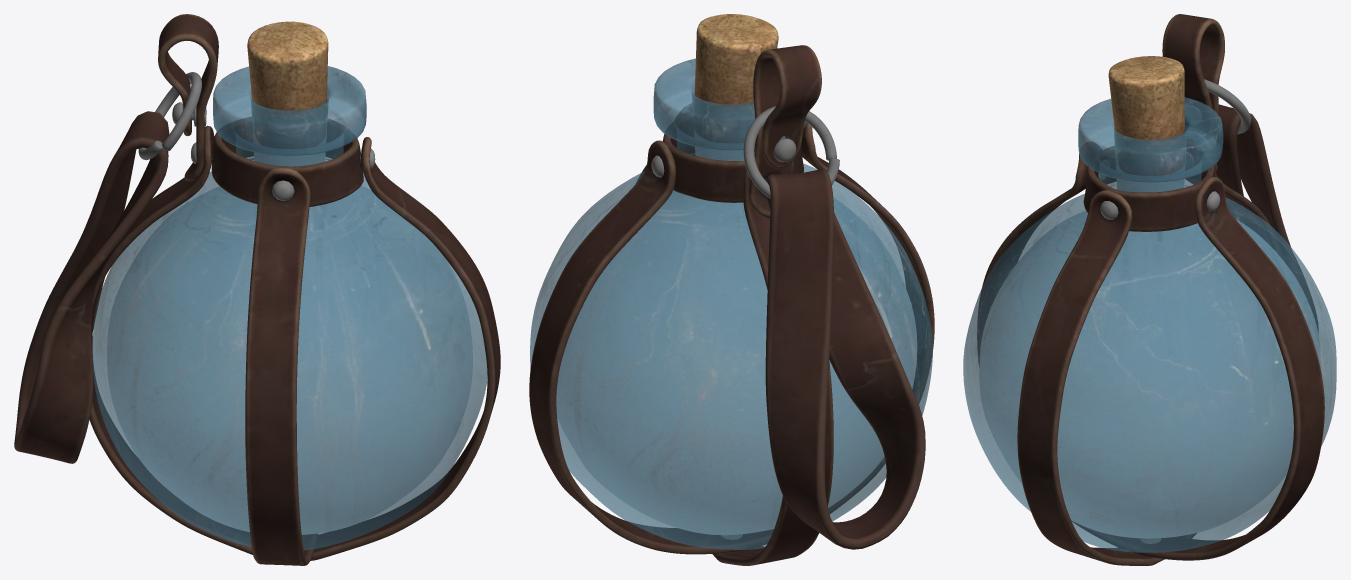
Rendered from leather.glb.
3 renders of one model, left to right at view 1: azimuth 30°, elevation 25°; view 2: azimuth 150°, elevation 25°; view 3: azimuth 270°, elevation 25°, orthographic. The views are drawn at different scales.
Visible parts, largest first — view 1: Sklianka__0; view 2: Sklianka__0; view 3: Sklianka__0.
Boxes of the visible parts, x1,y1,x2,y2 form: Sklianka__0: (14,14,500,565); Sklianka__0: (529,14,934,565); Sklianka__0: (963,14,1336,565).
Size of the model in its own units: 0.159 by 0.2048 by 0.1372.
Materials: 1 (1 with a texture image).
